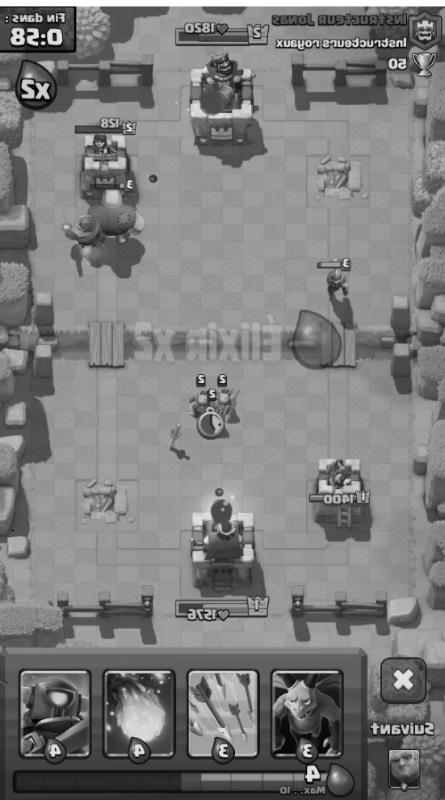chevalier: (57, 204, 109, 253)
geant: (79, 180, 143, 247)
gobelin_lances: (186, 384, 217, 417), (200, 403, 234, 433), (213, 386, 239, 415)
mousquetaire: (314, 253, 353, 300)
